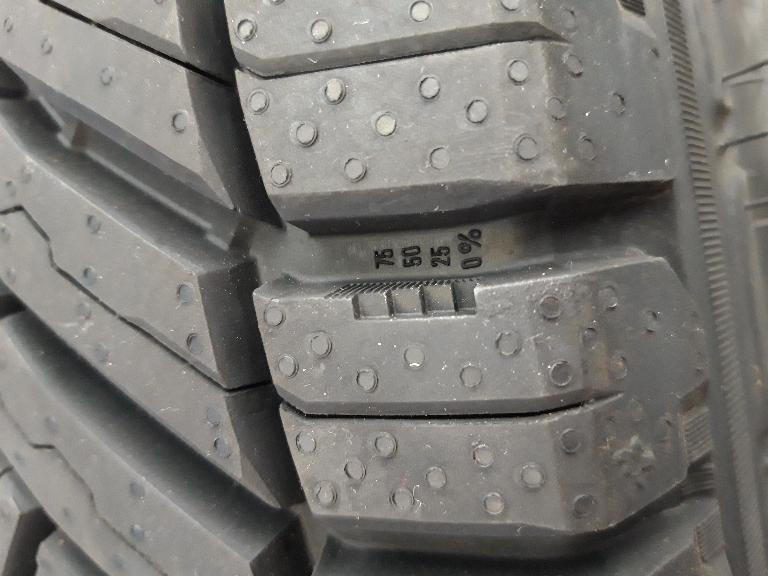temoin:100: (321, 273, 485, 327)
